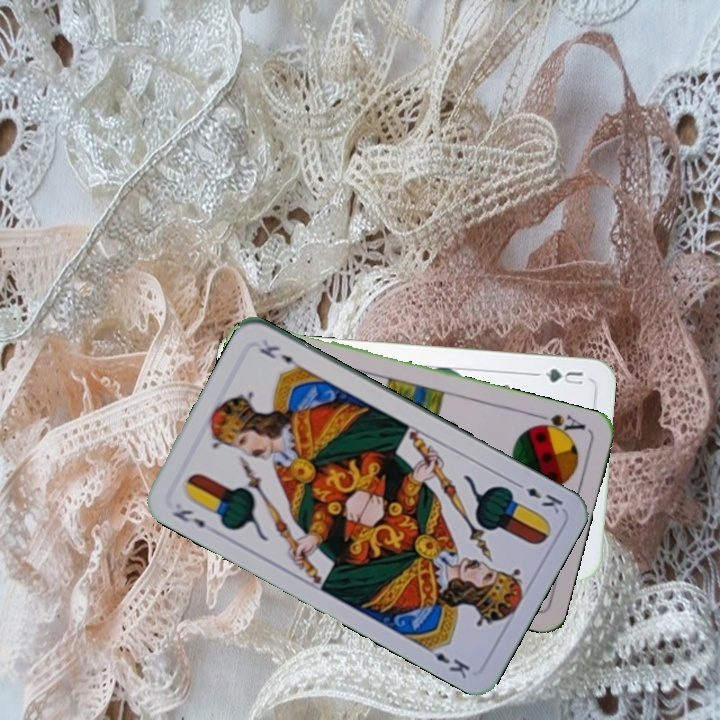EK: (510, 478, 566, 516), (168, 505, 208, 531)
GU: (541, 364, 587, 387)
SA: (528, 409, 589, 440)
